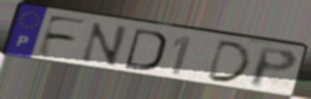1: (171, 34, 194, 76)
D: (203, 39, 253, 85), (123, 26, 169, 73)
F: (34, 13, 91, 59)
N: (77, 21, 130, 69)
P: (248, 45, 300, 90)
